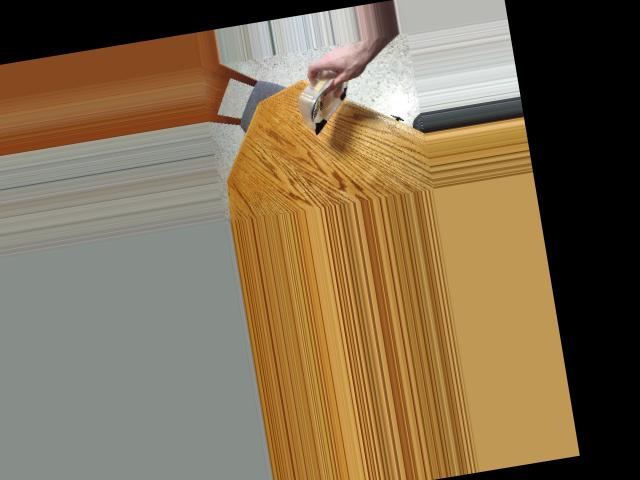cheese: (280, 60, 374, 134)
